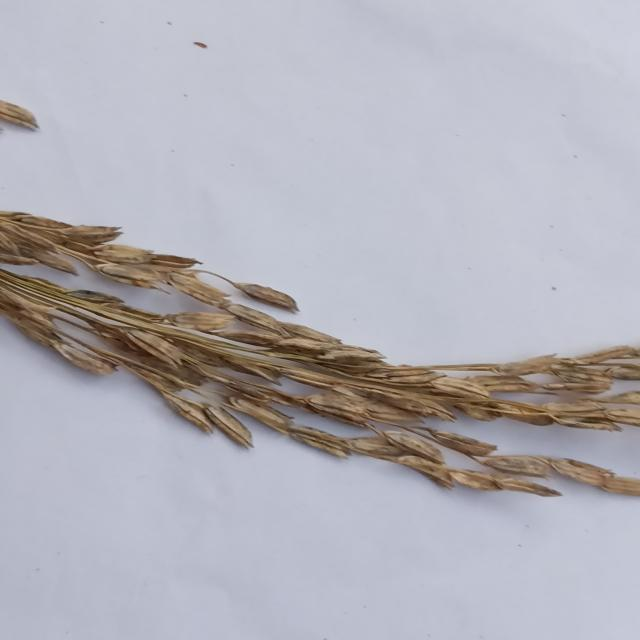Neck_Blast: (0, 199, 640, 424), (0, 286, 640, 511)
